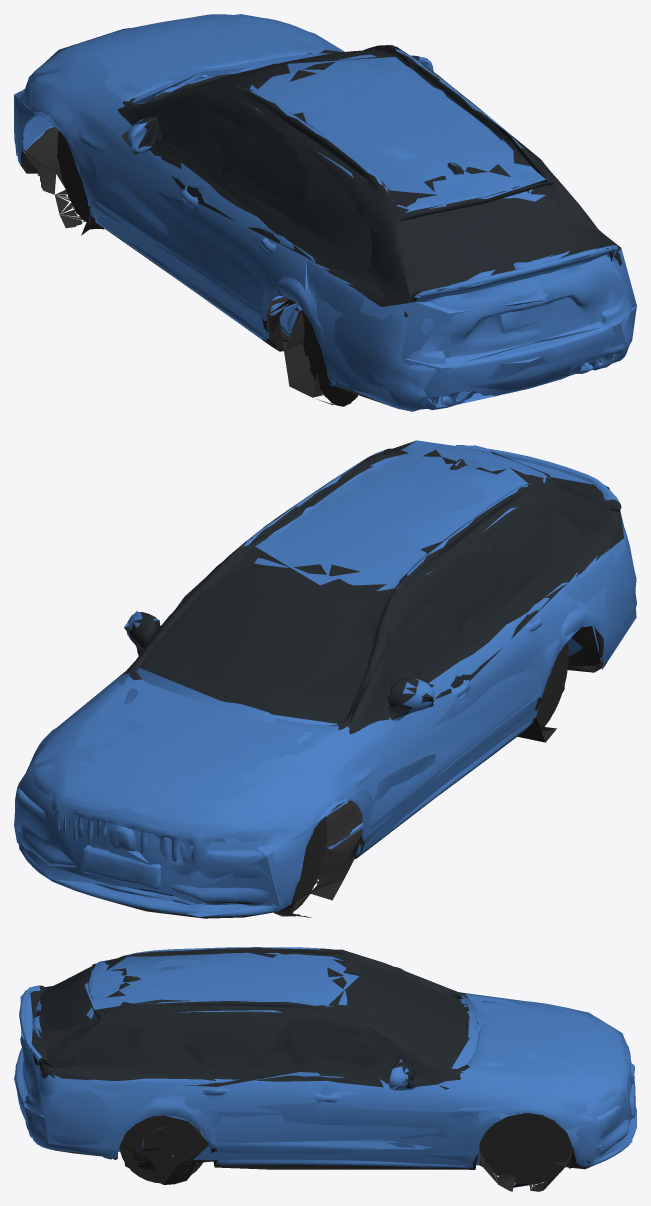
Rendered from volvo-v90.glb.
3 views of the same model, one above another, from view 1: azimuth 30°, elevation 25°; view 2: azimuth 150°, elevation 25°; view 3: azimuth 270°, elevation 25° (orthographic). The views are drawn at different scales.
Visible parts, largest first — view 1: body, far; view 2: body, far; view 3: body, far.
Boxes of the visible parts, left/top/right/bottom form: body: left=14, top=14, right=633, bottom=411; far: left=14, top=14, right=636, bottom=409; body: left=14, top=445, right=636, bottom=918; far: left=14, top=440, right=636, bottom=917; body: left=15, top=947, right=636, bottom=1191; far: left=14, top=949, right=632, bottom=1187.
Bounding box in the file's own units: 2.11 × 1.57 × 4.96.
